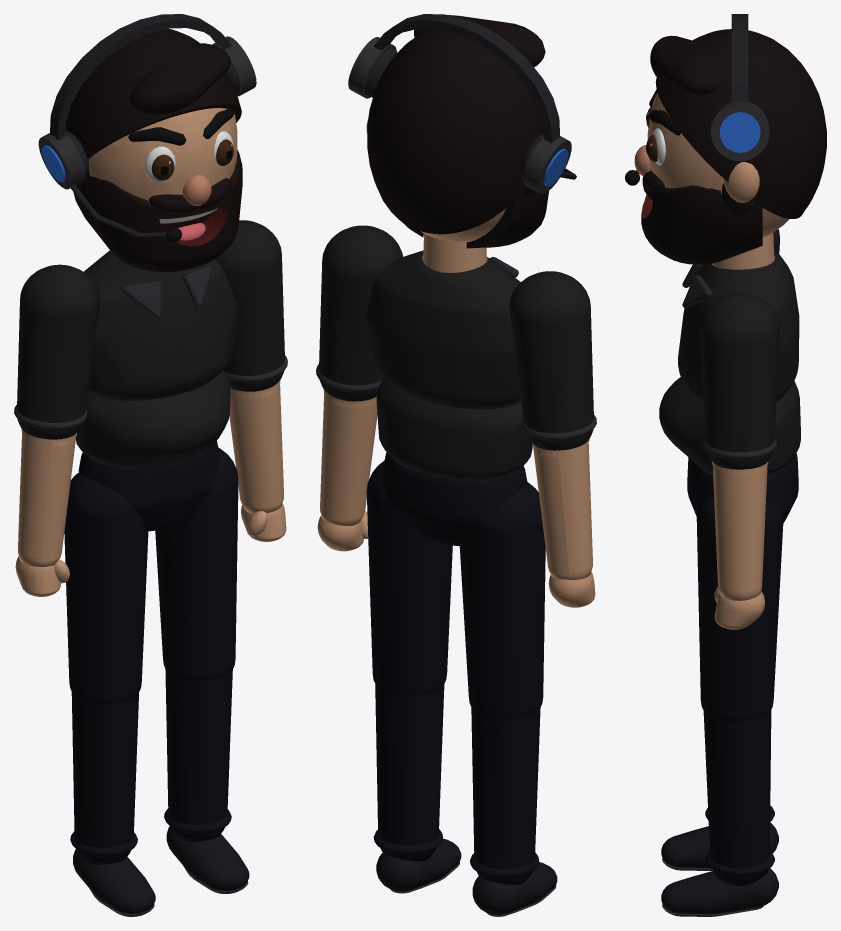
Rendered from ewa_yasin.glb.
3 views of the same model, side by side, from view 1: azimuth 30°, elevation 25°; view 2: azimuth 150°, elevation 25°; view 3: azimuth 270°, elevation 25° (orthographic). The views are drawn at different scales.
Visible parts, largest first — view 1: creature; view 2: creature; view 3: creature.
Part boxes in pixels (x1,y1,x2,y2): creature: (14,14,287,916); creature: (316,14,596,916); creature: (625,14,826,916).
Size of the model in its own units: 0.3215 by 1 by 0.2117.
